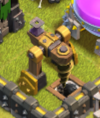dark_elixir_colector: (16, 14, 83, 108)
